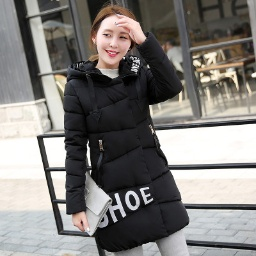face: (84, 5, 159, 76)
